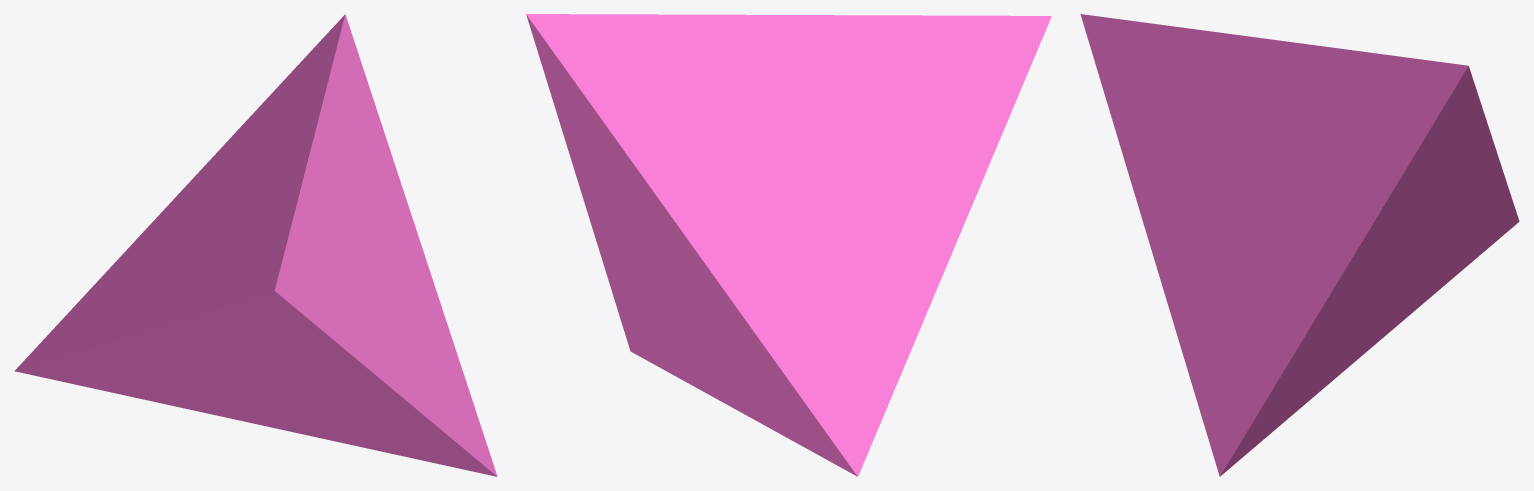
The model's file is InfoObras_MundoPropio.gltf.
3 views of the same model, side by side, from view 1: azimuth 30°, elevation 25°; view 2: azimuth 150°, elevation 25°; view 3: azimuth 270°, elevation 25° (orthographic). The views are drawn at different scales.
Visible parts, largest first — view 1: InfoObras_MundoPropio; view 2: InfoObras_MundoPropio; view 3: InfoObras_MundoPropio.
Part boxes in pixels (x1,y1,x2,y2): InfoObras_MundoPropio: (14, 14, 497, 476); InfoObras_MundoPropio: (526, 14, 1051, 476); InfoObras_MundoPropio: (1080, 14, 1519, 476).
Bounding box in the file's own units: 0.2282 × 0.2466 × 0.2483.
